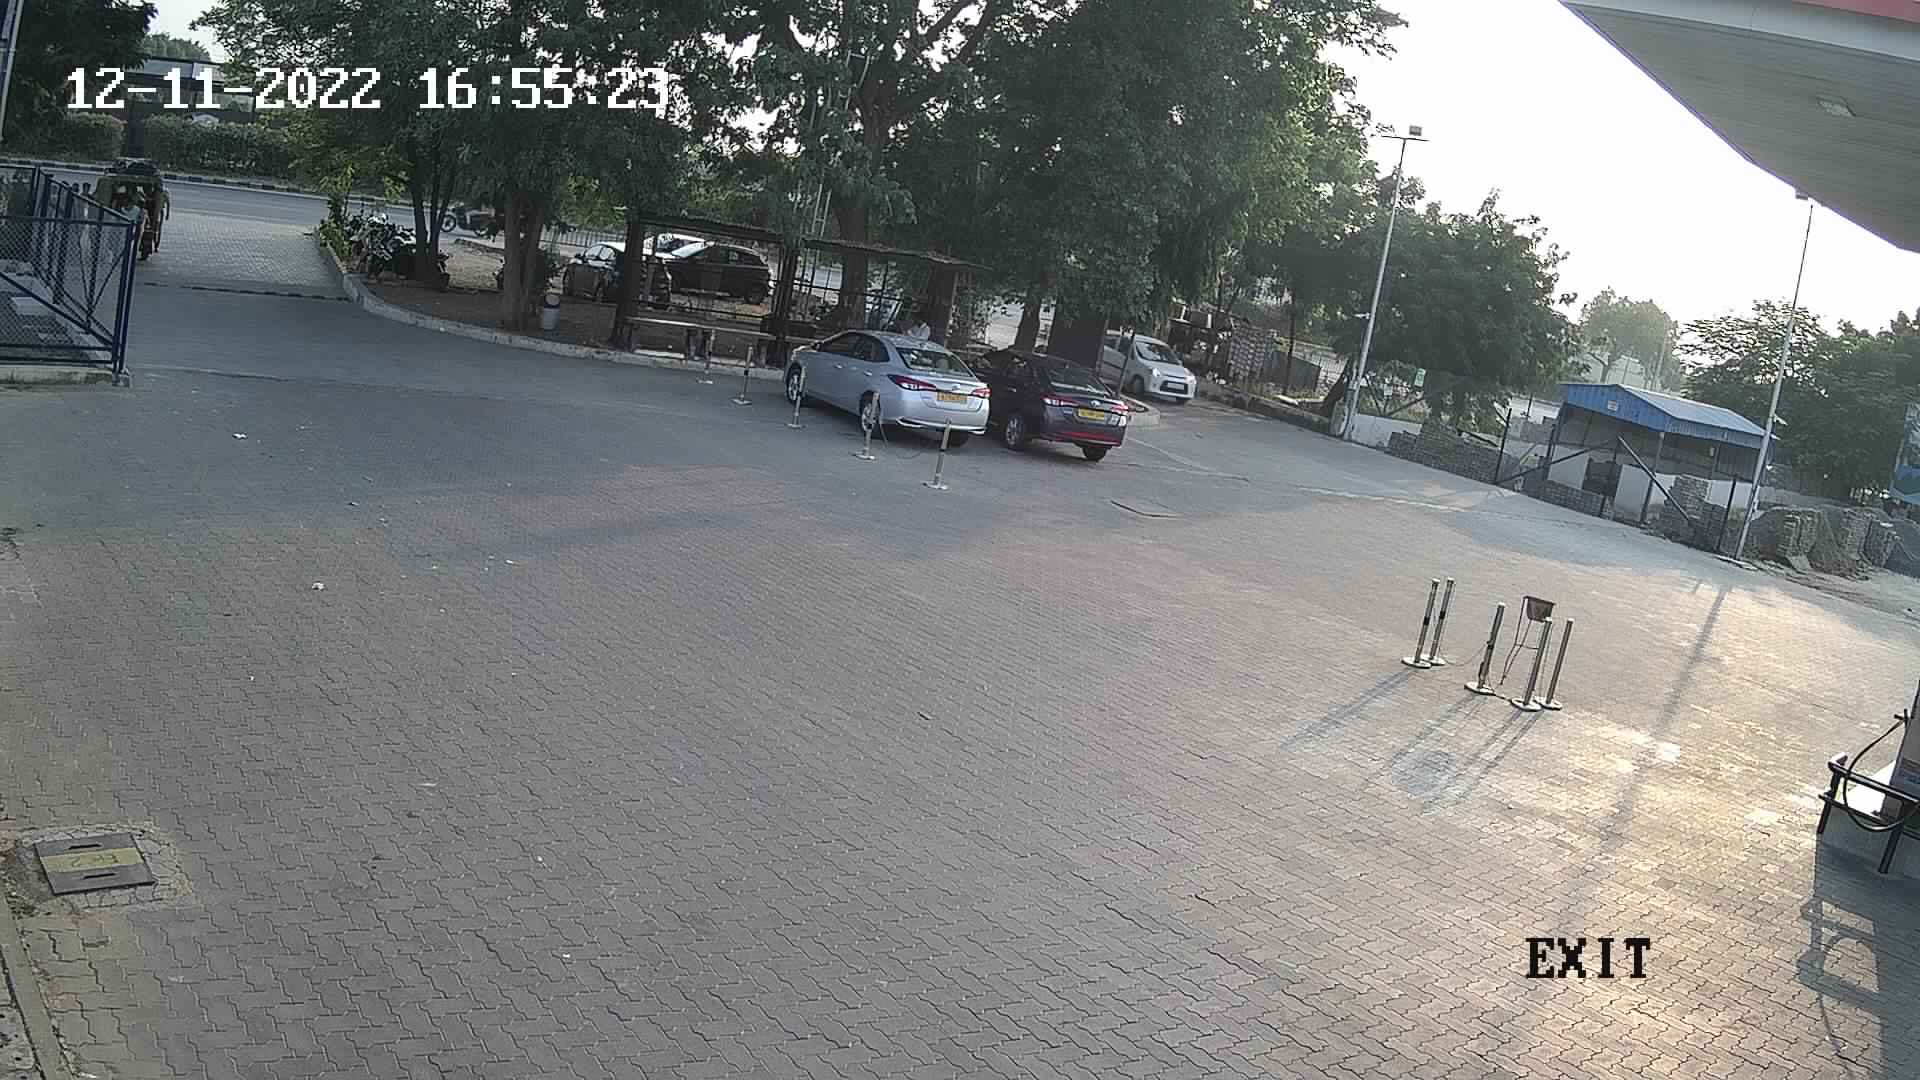Auto: (61, 146, 181, 266)
Car: (781, 313, 1010, 454), (968, 339, 1137, 467), (1085, 322, 1211, 409), (640, 237, 774, 306), (547, 229, 629, 307), (640, 224, 709, 257)
